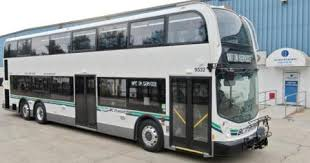bus: (1, 1, 268, 158)
